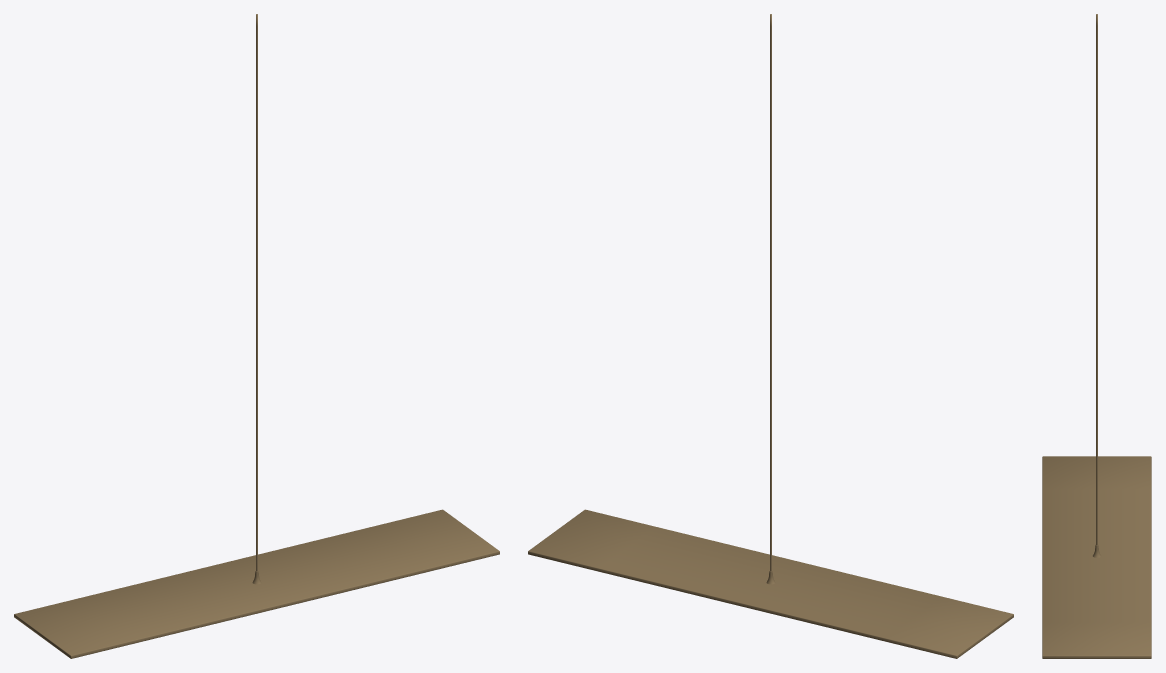
File: Basic.glb
The picture shows the model from 3 angles, left to right: view 1: azimuth 30°, elevation 25°; view 2: azimuth 150°, elevation 25°; view 3: azimuth 270°, elevation 25°; orthographic projection. The views are drawn at different scales.
Parts seen in each view (by area): view 1: Board, SolidMetal; view 2: Board, SolidMetal; view 3: Board, SolidMetal.
Boxes of the visible parts, bbox=[...] form: Board: bbox=[14, 509, 499, 658]; SolidMetal: bbox=[256, 14, 257, 571]; Board: bbox=[528, 509, 1013, 658]; SolidMetal: bbox=[770, 14, 771, 571]; Board: bbox=[1042, 456, 1151, 658]; SolidMetal: bbox=[1096, 14, 1097, 545].
Bounding box in the file's own units: 2.6 × 3.31 × 0.6.
